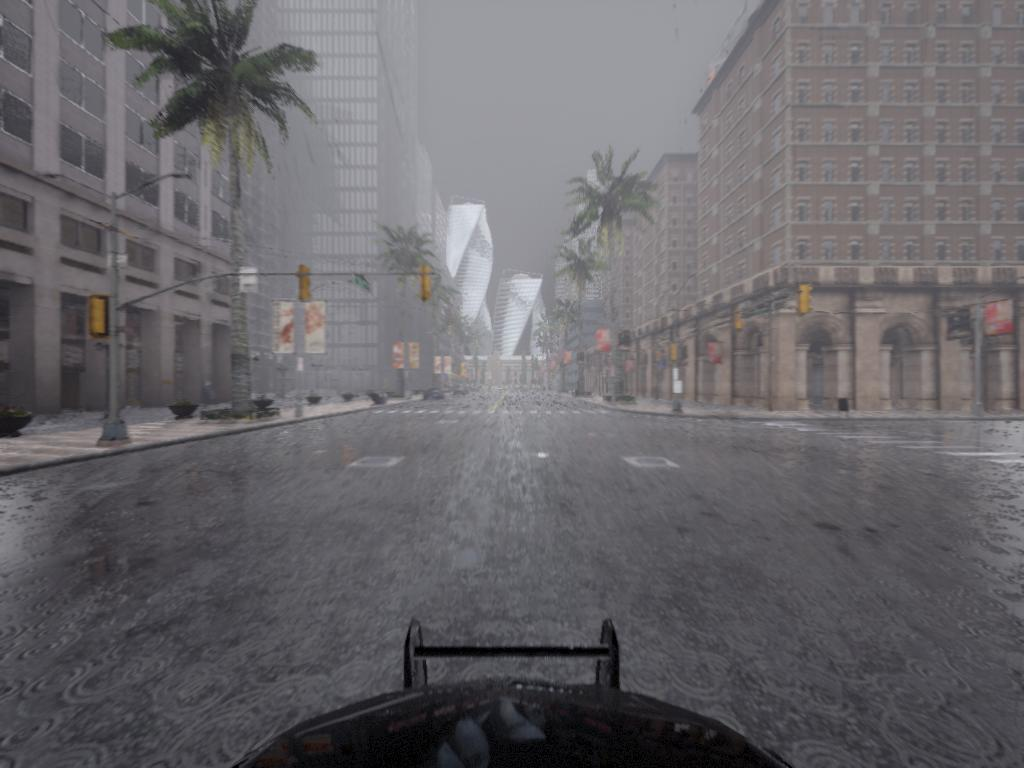traffic_light: (89, 299, 111, 337), (417, 265, 436, 301), (299, 268, 315, 302), (795, 286, 812, 314)
